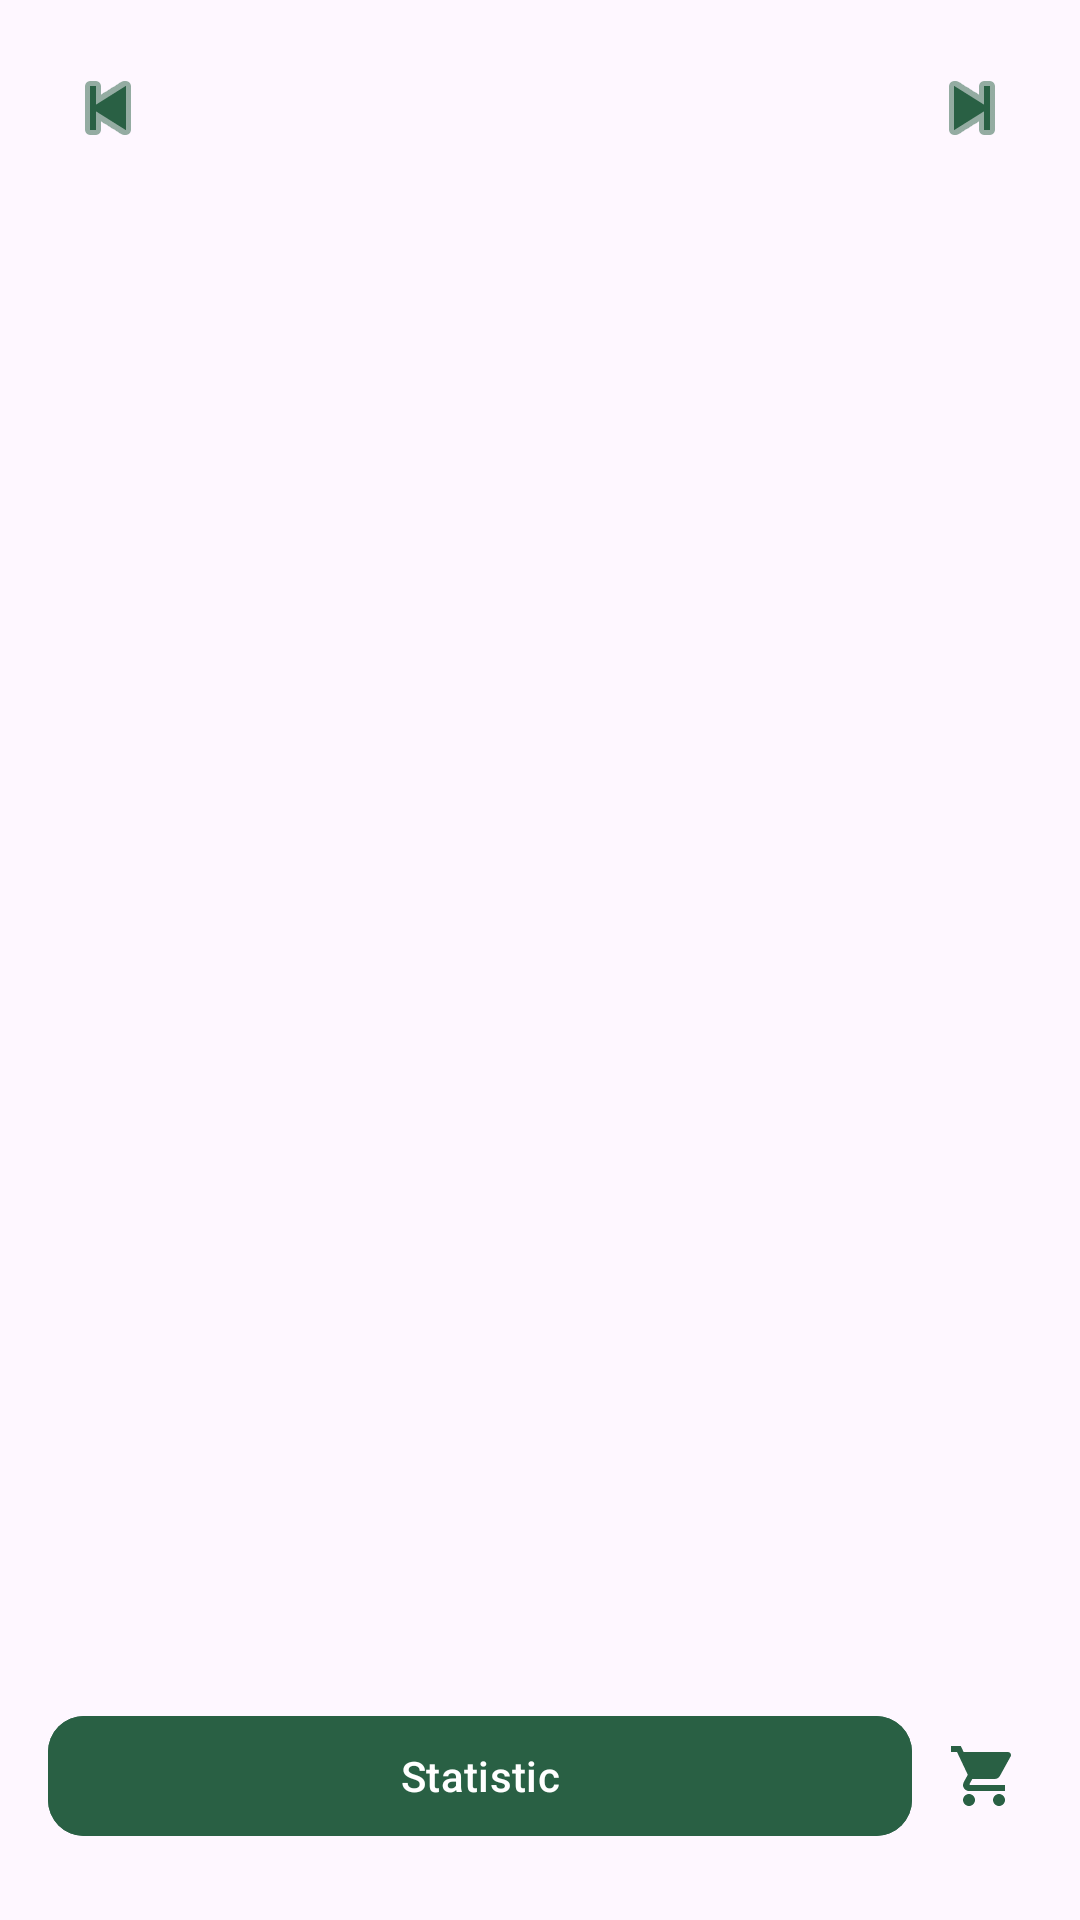

Screen size 1080px×1920px. Icon name, then its center in pixels as (x,y):
next: (972,108)
previous: (108,108)
Shopping List: (981,1776)
